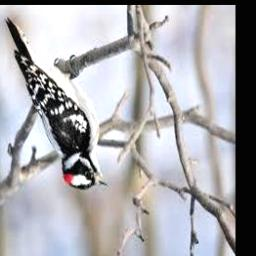Woodpecker: (5, 17, 110, 190)
